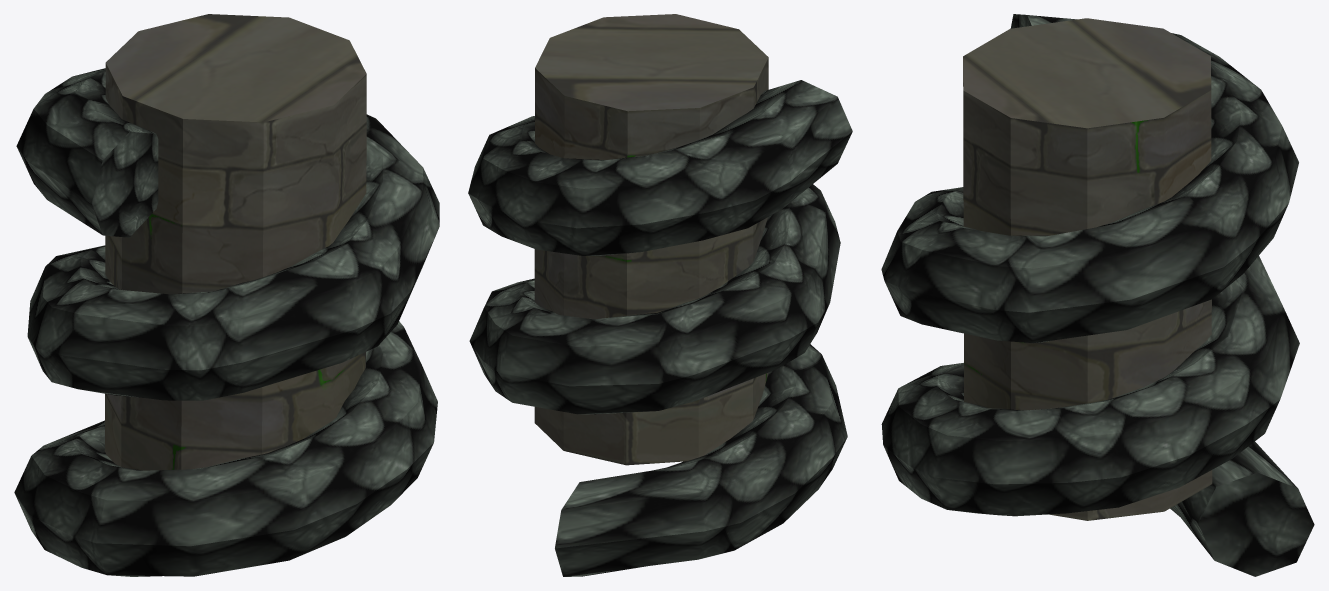
Rendered from SM_Pillar_Middle.fbx.
3 renders of one model, left to right at view 1: azimuth 30°, elevation 25°; view 2: azimuth 150°, elevation 25°; view 3: azimuth 270°, elevation 25°, orthographic. The views are drawn at different scales.
Visible parts, largest first — view 1: polySurface41; view 2: polySurface41; view 3: polySurface41.
Part boxes in pixels (x1,y1,x2,y2): polySurface41: [14, 14, 439, 576]; polySurface41: [468, 14, 852, 576]; polySurface41: [881, 14, 1314, 576].
Bounding box in the file's own units: 0.8117 × 1.07 × 0.8305.
